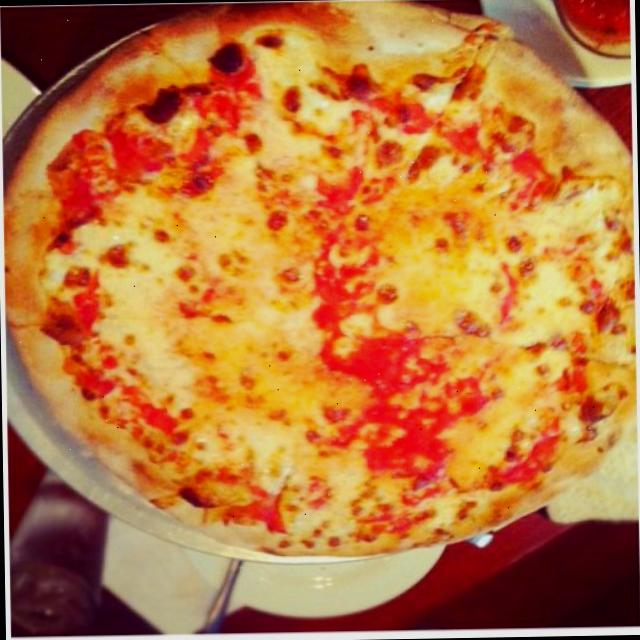pizza: (7, 2, 634, 556)
